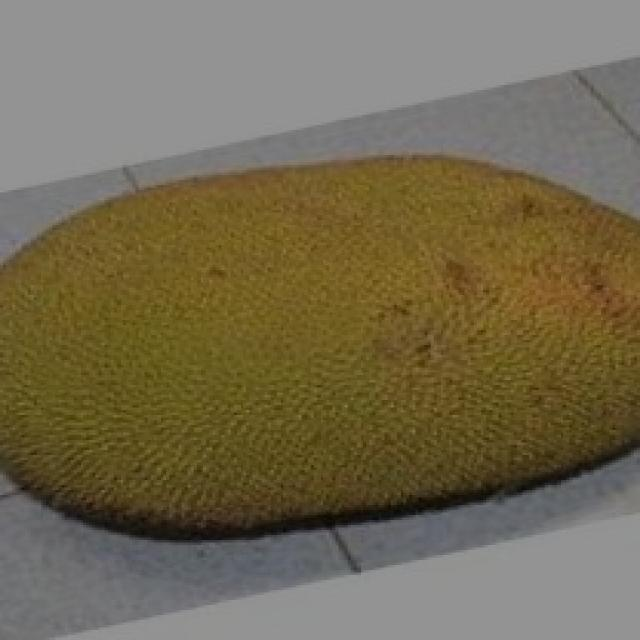Fruit: (243, 112, 640, 400)
